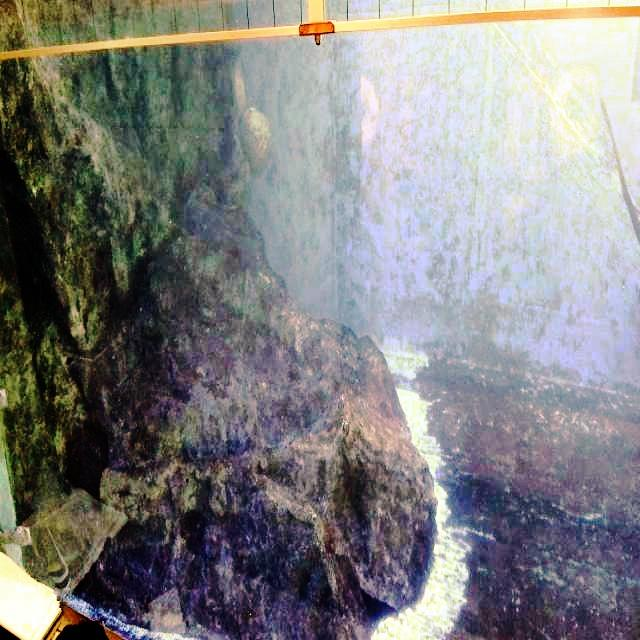angelfish: (32, 512, 82, 598)
